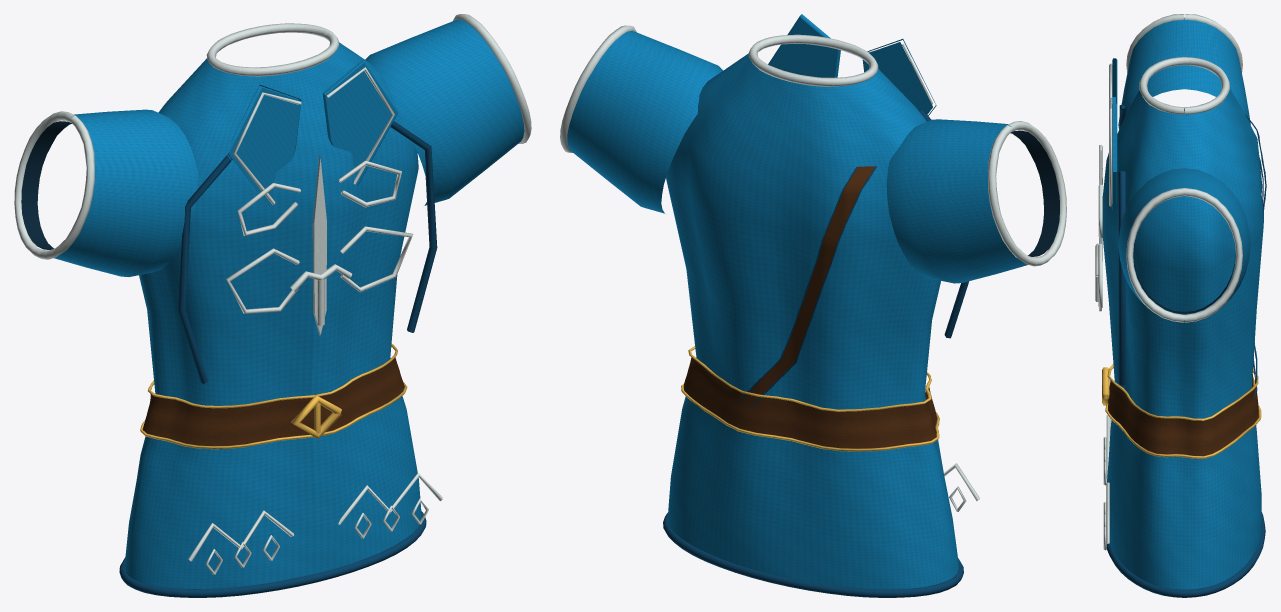
Rendered from champions_tunic.glb.
3 views of the same model, side by side, from view 1: azimuth 30°, elevation 25°; view 2: azimuth 150°, elevation 25°; view 3: azimuth 270°, elevation 25° (orthographic). The views are drawn at different scales.
Parts seen in each view (by area): view 1: Blue woven Champion tunic, Hollow stitched sleeve (×2), Folded V-neck collar (×2), Fitted waist belt, Rolled sleeve cuff edge (×2), Champion shoulder stitched panel (×2), Blue rolled Champion hem, Open neckline rolled seam, Sleeve dark inner cuff, Waist belt sewn piping (×2), White Champion lower flourish (×2), White embroidered chest sword blade (+2 smaller); view 2: Blue woven Champion tunic, Hollow stitched sleeve (×2), Fitted waist belt, Folded V-neck collar (×2), Rolled sleeve cuff edge (×2), Champion rear leather seam strap, Blue rolled Champion hem, Open neckline rolled seam, Sleeve dark inner cuff, Waist belt sewn piping (×2); view 3: Blue woven Champion tunic, Hollow stitched sleeve (×2), Fitted waist belt, Rolled sleeve cuff edge (×2), Open neckline rolled seam, Blue rolled Champion hem, Champion shoulder stitched panel, Waist belt sewn piping (×2), Folded V-neck collar (×2), Collar stitched edging, White Champion lower flourish, Sleeve dark inner cuff (+4 smaller).
Boxes of the visible parts, left/top/right/bottom form: Blue woven Champion tunic: left=124, top=42, right=421, bottom=589; Hollow stitched sleeve (×2): left=54, top=19, right=524, bottom=276; Folded V-neck collar (×2): left=225, top=59, right=398, bottom=207; Fitted waist belt: left=142, top=357, right=404, bottom=445; Rolled sleeve cuff edge (×2): left=14, top=14, right=531, bottom=259; Champion shoulder stitched panel (×2): left=178, top=121, right=437, bottom=383; Blue rolled Champion hem: left=119, top=511, right=426, bottom=597; Open neckline rolled seam: left=206, top=23, right=339, bottom=76; Sleeve dark inner cuff: left=21, top=121, right=71, bottom=249; Waist belt sewn piping (×2): left=140, top=344, right=407, bottom=449; White Champion lower flourish (×2): left=226, top=226, right=413, bottom=313; White embroidered chest sword blade: left=312, top=156, right=326, bottom=335; Blue woven Champion tunic: left=666, top=53, right=958, bottom=589; Hollow stitched sleeve (×2): left=567, top=30, right=1027, bottom=283; Fitted waist belt: left=683, top=357, right=937, bottom=448; Folded V-neck collar (×2): left=768, top=14, right=936, bottom=115; Rolled sleeve cuff edge (×2): left=560, top=25, right=1066, bottom=266; Champion rear leather seam strap: left=749, top=166, right=875, bottom=394; Blue rolled Champion hem: left=663, top=513, right=963, bottom=597; Open neckline rolled seam: left=748, top=34, right=878, bottom=86; Sleeve dark inner cuff: left=1010, top=130, right=1059, bottom=256; Waist belt sewn piping (×2): left=681, top=346, right=939, bottom=451; Blue woven Champion tunic: left=1102, top=89, right=1263, bottom=589; Hollow stitched sleeve (×2): left=1118, top=17, right=1250, bottom=320; Fitted waist belt: left=1108, top=374, right=1258, bottom=456; Rolled sleeve cuff edge (×2): left=1126, top=14, right=1242, bottom=322; Open neckline rolled seam: left=1139, top=57, right=1229, bottom=114; Blue rolled Champion hem: left=1106, top=512, right=1265, bottom=597; Champion shoulder stitched panel: left=1118, top=171, right=1125, bottom=385; Waist belt sewn piping (×2): left=1105, top=364, right=1261, bottom=458; Folded V-neck collar (×2): left=1112, top=58, right=1117, bottom=210; Collar stitched edging: left=1109, top=108, right=1112, bottom=206; White Champion lower flourish: left=1098, top=243, right=1102, bottom=308; Sleeve dark inner cuff: left=1133, top=255, right=1235, bottom=313.
Size of the model in its own units: 61.5 by 61.74 by 21.12.
6 materials, 6 textured.
